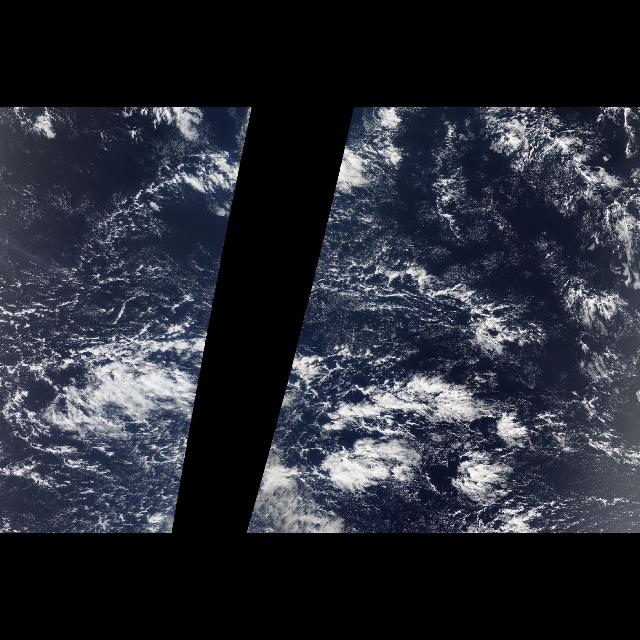Fish: (266, 109, 640, 532), (0, 334, 208, 464)
Gravel: (298, 233, 634, 503), (5, 254, 186, 488)
Sugar: (398, 162, 568, 300), (4, 138, 94, 292)
